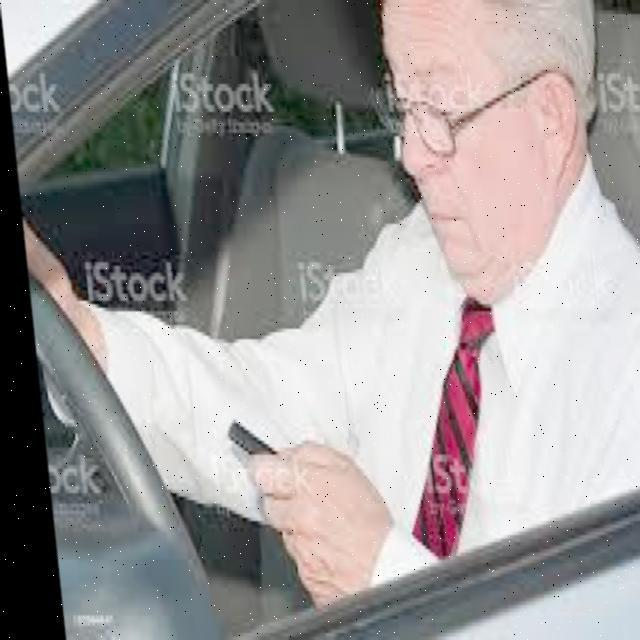noSeatbelt: (303, 182, 640, 606)
